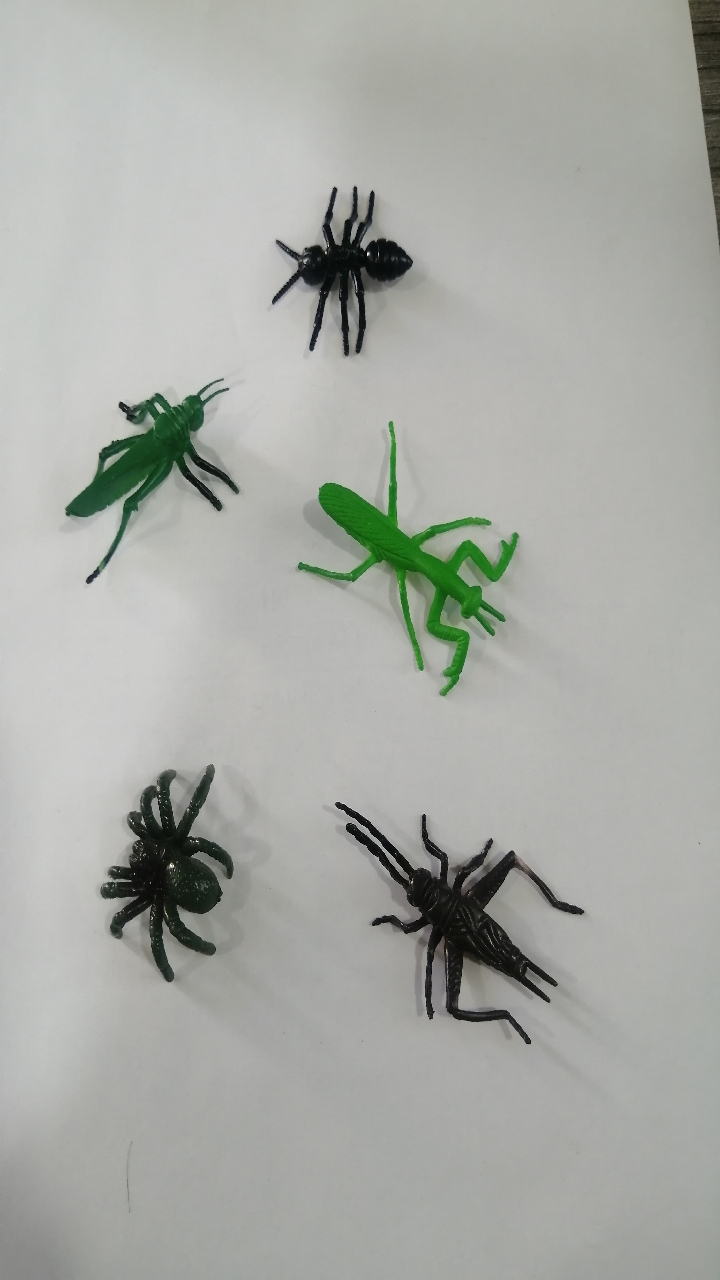intruso: (283, 397, 551, 728), (315, 757, 594, 1060), (68, 719, 258, 1014), (31, 366, 246, 602), (244, 145, 431, 368)
